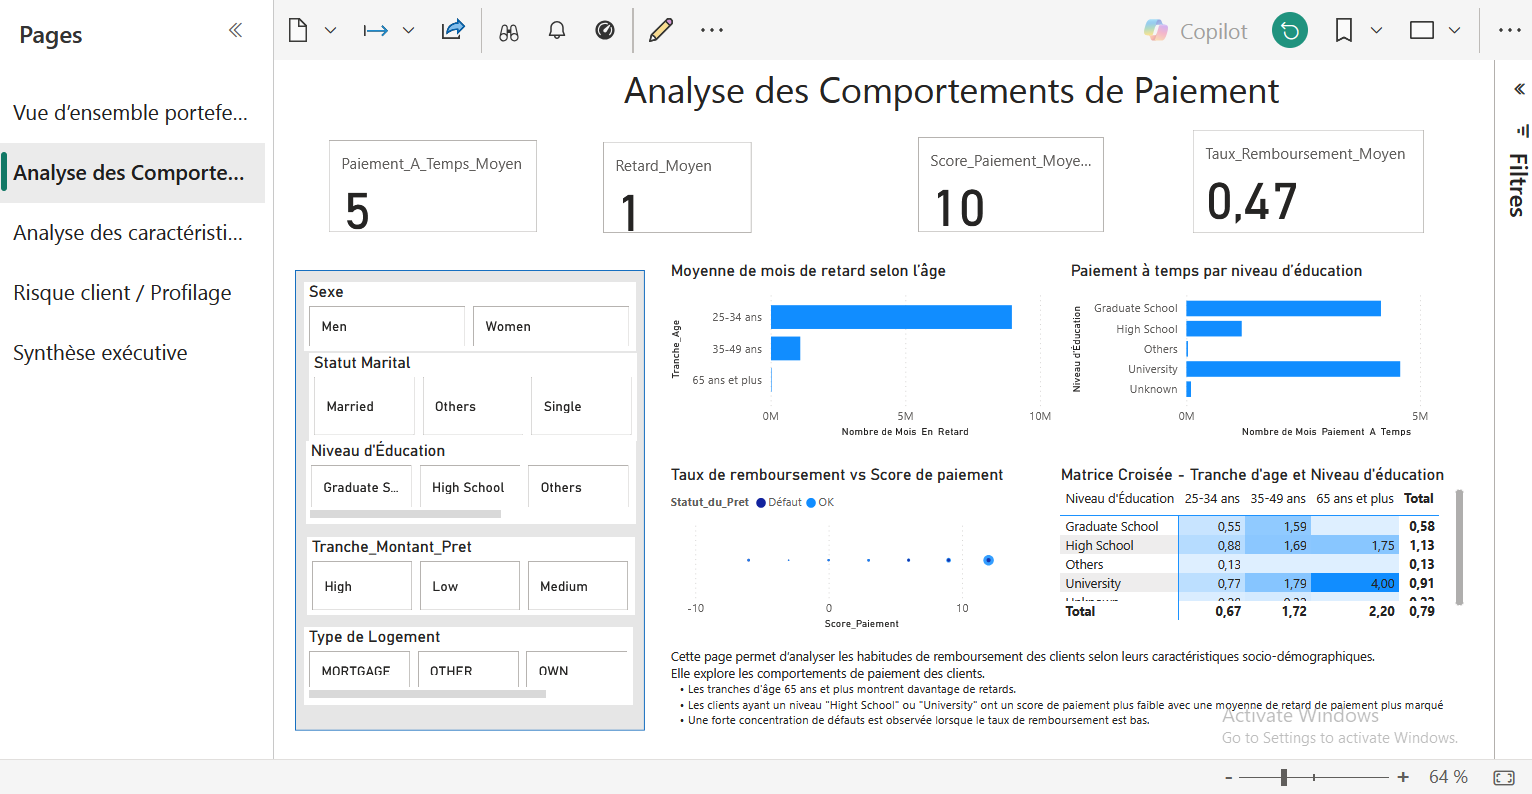

This screenshot's page, from the dashboard's own definition file:
{"tool":"powerbi","page":{"name":"Analyse des Comportements de Paiement","canvas":[1280,720],"ordinal":1},"visuals":[{"type":"textbox","box":[361.6,0,713.6,67.2],"z":0},{"type":"shape","box":[22.4,219.7,366.9,483.2],"z":1000},{"type":"advancedSlicerVisual","fields":{"Values":["Dataset_Risque_de_Credit_Clean.Sexe"]},"box":[32,233.6,347.7,72.5],"z":2000},{"type":"cardVisual","fields":{"Data":["Dataset_Risque_de_Credit_Clean.Paiement_A_Temps_Moyen1"]},"box":[52.3,78.9,229.3,107.7],"z":3000},{"type":"cardVisual","fields":{"Data":["Dataset_Risque_de_Credit_Clean.Retard_Moyen1"]},"box":[339.2,80,166.4,106.7],"z":4000},{"type":"cardVisual","fields":{"Data":["Dataset_Risque_de_Credit_Clean.Score_Paiement_Moyen1"]},"box":[670.9,75.7,205.9,110.9],"z":5000},{"type":"cardVisual","fields":{"Data":["Dataset_Risque_de_Credit_Clean.Taux_Remboursement_Moyen"]},"box":[957.9,67.2,253.9,119.5],"z":6000},{"type":"barChart","title":" Moyenne de mois de retard selon l’âge","fields":{"Category":["Dataset_Risque_de_Credit_Clean.Tranche_Age"],"Y":["CountNonNull(Dataset_Risque_de_Credit_Clean.Mois_En_Retard)"]},"box":[410.7,210.1,409.6,188.8],"z":7000},{"type":"clusteredBarChart","title":"Paiement à temps par niveau d’éducation","fields":{"Category":["Dataset_Risque_de_Credit_Clean.Niveau d'Éducation"],"Y":["CountNonNull(Dataset_Risque_de_Credit_Clean.Mois_Paiement_A_Temps)"]},"box":[830.9,210.1,434.1,188.8],"z":8000},{"type":"scatterChart","title":"Taux de remboursement vs Score de paiement","fields":{"X":["Dataset_Risque_de_Credit_Clean.Score_Paiement"],"Series":["Dataset_Risque_de_Credit_Clean.Statut_du_Pret"],"Size":["CountNonNull(Dataset_Risque_de_Credit_Clean.Montant Crédit Maximum)"]},"box":[410.7,424.5,392.5,177.1],"z":9000},{"type":"advancedSlicerVisual","fields":{"Values":["Dataset_Risque_de_Credit_Clean.Statut Marital"]},"box":[35.6,306,344.9,92.3],"z":10000},{"type":"advancedSlicerVisual","title":"Niveau d''Éducation","fields":{"Values":["Dataset_Risque_de_Credit_Clean.Niveau d'Éducation"]},"box":[32.4,399.9,346.5,87.4],"z":11000},{"type":"advancedSlicerVisual","fields":{"Values":["Dataset_Risque_de_Credit_Clean.Type de Logement"]},"box":[32,594.1,344.5,82.1],"z":12000},{"type":"advancedSlicerVisual","fields":{"Values":["Dataset_Risque_de_Credit_Clean.Tranche_Montant_Pret"]},"box":[35.2,500.3,343.5,82.1],"z":13000},{"type":"textbox","box":[410.7,610.1,842.7,101.3],"z":14000},{"type":"pivotTable","title":"Matrice Croisée - Tranche d''age et Niveau d''éducation","fields":{"Rows":["Dataset_Risque_de_Credit_Clean.Niveau d'Éducation"],"Columns":["Dataset_Risque_de_Credit_Clean.Tranche_Age"],"Values":["Avg(Dataset_Risque_de_Credit_Clean.Mois_En_Retard)"]},"box":[820.3,424.5,433.1,167.5],"z":15000}]}

Visuals, with their boxes on the page's 1280x720 design canvas (x1, y1, x2, y2). These are canvas units, not pixel positions in the 1532x794 screenshot, which may show the page scaled, cropped or inside an application window:
textbox: bbox=(362, 0, 1075, 67)
shape: bbox=(22, 220, 389, 703)
advancedSlicerVisual - Dataset_Risque_de_Credit_Clean.Sexe: bbox=(32, 234, 380, 306)
cardVisual - Dataset_Risque_de_Credit_Clean.Paiement_A_Temps_Moyen1: bbox=(52, 79, 282, 187)
cardVisual - Dataset_Risque_de_Credit_Clean.Retard_Moyen1: bbox=(339, 80, 506, 187)
cardVisual - Dataset_Risque_de_Credit_Clean.Score_Paiement_Moyen1: bbox=(671, 76, 877, 187)
cardVisual - Dataset_Risque_de_Credit_Clean.Taux_Remboursement_Moyen: bbox=(958, 67, 1212, 187)
" Moyenne de mois de retard selon l’âge" barChart: bbox=(411, 210, 820, 399)
"Paiement à temps par niveau d’éducation" clusteredBarChart: bbox=(831, 210, 1265, 399)
"Taux de remboursement vs Score de paiement" scatterChart: bbox=(411, 424, 803, 602)
advancedSlicerVisual - Dataset_Risque_de_Credit_Clean.Statut Marital: bbox=(36, 306, 380, 398)
"Niveau d''Éducation" advancedSlicerVisual: bbox=(32, 400, 379, 487)
advancedSlicerVisual - Dataset_Risque_de_Credit_Clean.Type de Logement: bbox=(32, 594, 376, 676)
advancedSlicerVisual - Dataset_Risque_de_Credit_Clean.Tranche_Montant_Pret: bbox=(35, 500, 379, 582)
textbox: bbox=(411, 610, 1253, 711)
"Matrice Croisée - Tranche d''age et Niveau d''éducation" pivotTable: bbox=(820, 424, 1253, 592)
